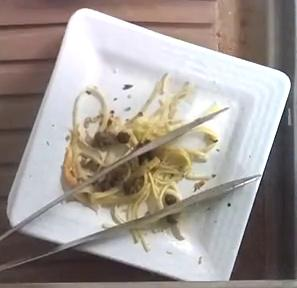asian_noodles: (63, 72, 192, 186), (72, 125, 216, 220)
